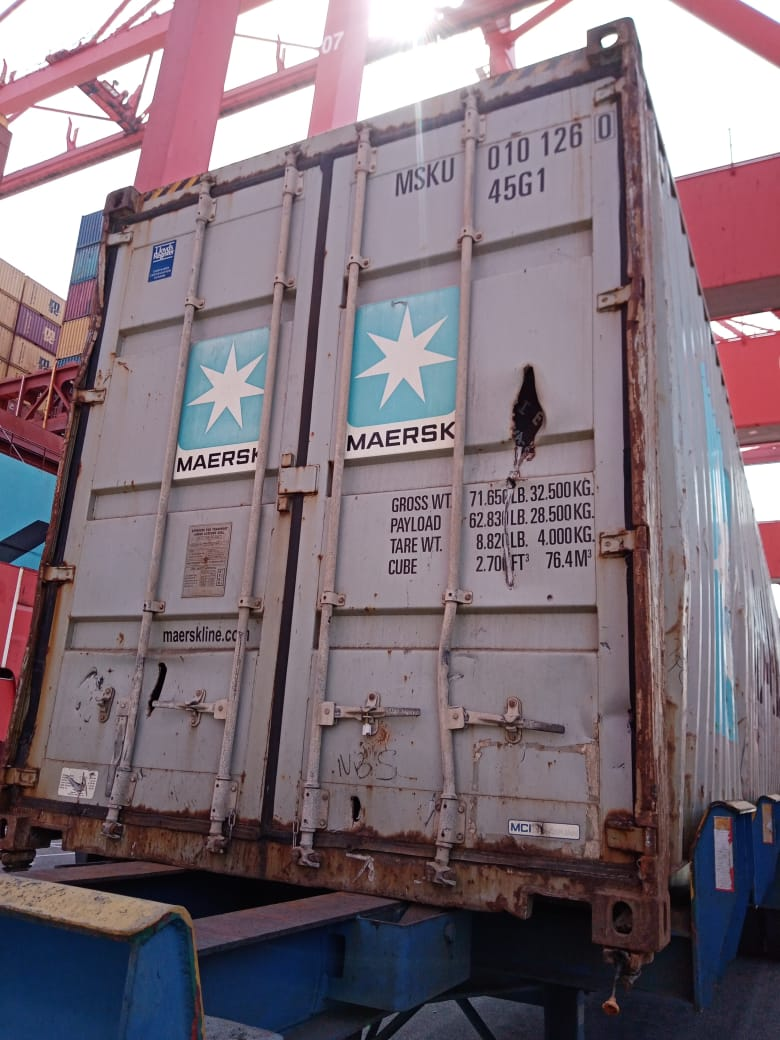severe: (495, 350, 562, 494)
